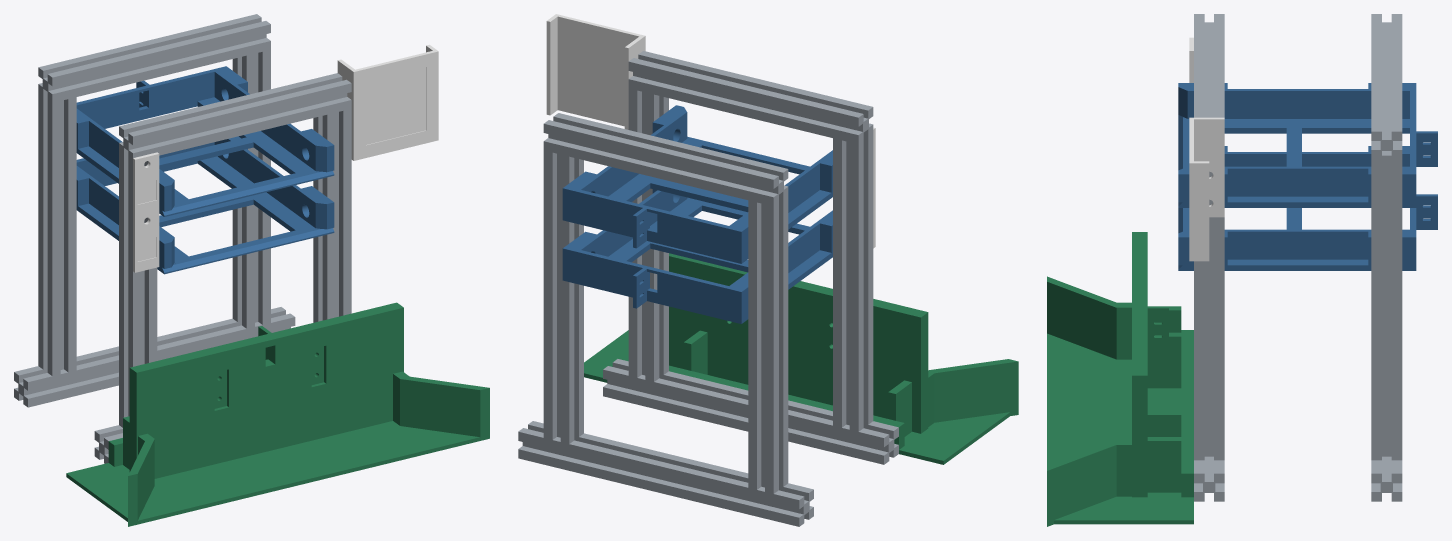
Rendered from spare.glb.
3 views of the same model, side by side, from view 1: azimuth 30°, elevation 25°; view 2: azimuth 150°, elevation 25°; view 3: azimuth 270°, elevation 25° (orthographic). The views are drawn at different scales.
Visible parts, largest first — view 1: spare (×4); view 2: spare (×4); view 3: spare (×4).
Part boxes in pixels (<box>): spare (×4): <box>14,14,489,526</box>; spare (×4): <box>518,14,1018,526</box>; spare (×4): <box>1047,14,1437,526</box>.
Bounding box in the file's own units: 0.309 × 0.265 × 0.253.
